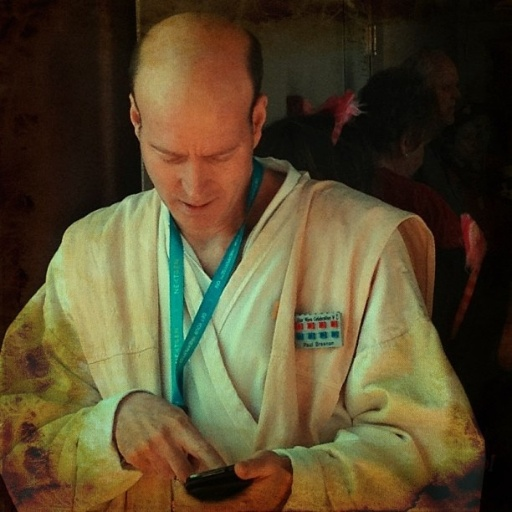hand: (89, 385, 235, 495), (173, 446, 291, 510)
